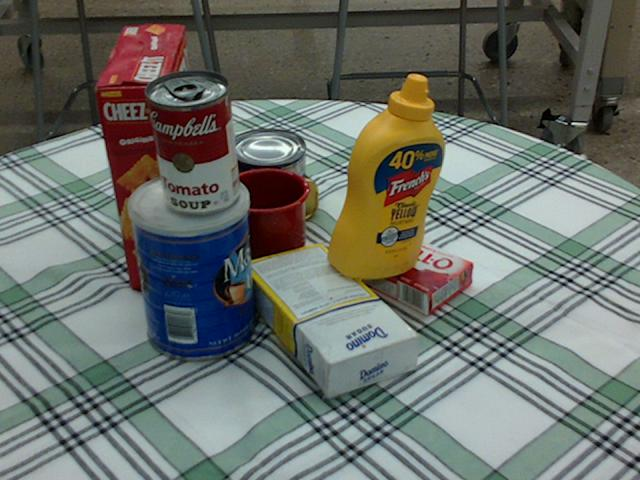cracker_box: (92, 27, 206, 287)
gelatin_box: (358, 233, 471, 316)
master_chef_can: (126, 170, 257, 362)
mug: (195, 167, 308, 274)
mustard_bottle: (327, 73, 443, 278)
potted_meat_can: (204, 146, 314, 231)
sugar_box: (240, 243, 421, 394)
tomato_soup_can: (145, 69, 238, 213)
tuna_fish_can: (226, 129, 305, 191)
